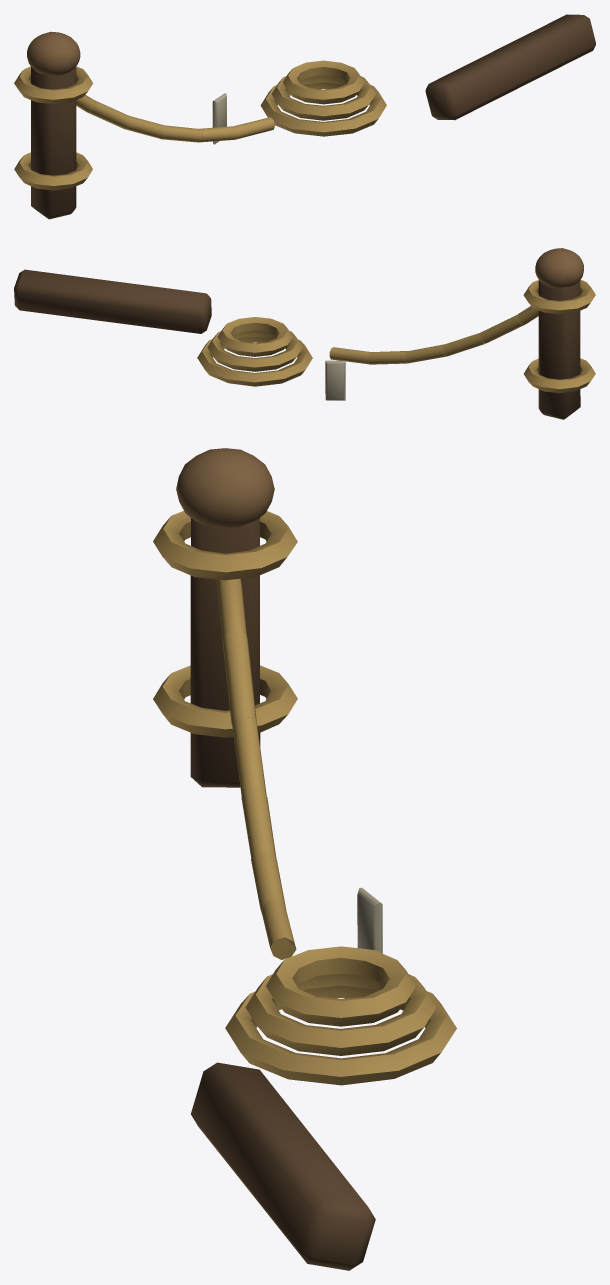
Rendered from rope_fence_c.glb.
The picture shows the model from 3 angles, top to bottom: view 1: azimuth 30°, elevation 25°; view 2: azimuth 150°, elevation 25°; view 3: azimuth 270°, elevation 25°; orthographic projection. The views are drawn at different scales.
Parts seen in each view (by area): view 1: Surface; view 2: Surface; view 3: Surface.
Boxes of the visible parts, x1=… form: Surface: x1=14, y1=14, x2=595, y2=219; Surface: x1=14, y1=248, x2=595, y2=419; Surface: x1=153, y1=448, x2=456, y2=1270.
Bounding box in the file's own units: 4.38 × 1.29 × 1.05.
